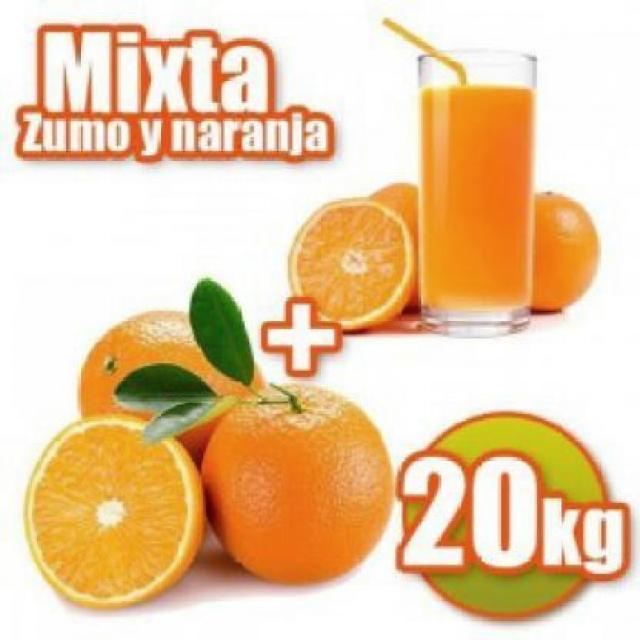Jeruk Sudah Matang: (203, 386, 391, 588), (80, 306, 263, 492), (492, 192, 600, 312)
